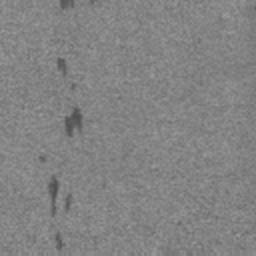Red iron sheet: (64, 106, 83, 136), (47, 174, 59, 218), (56, 56, 67, 77), (54, 233, 64, 252), (64, 192, 72, 212), (59, 0, 74, 10)
